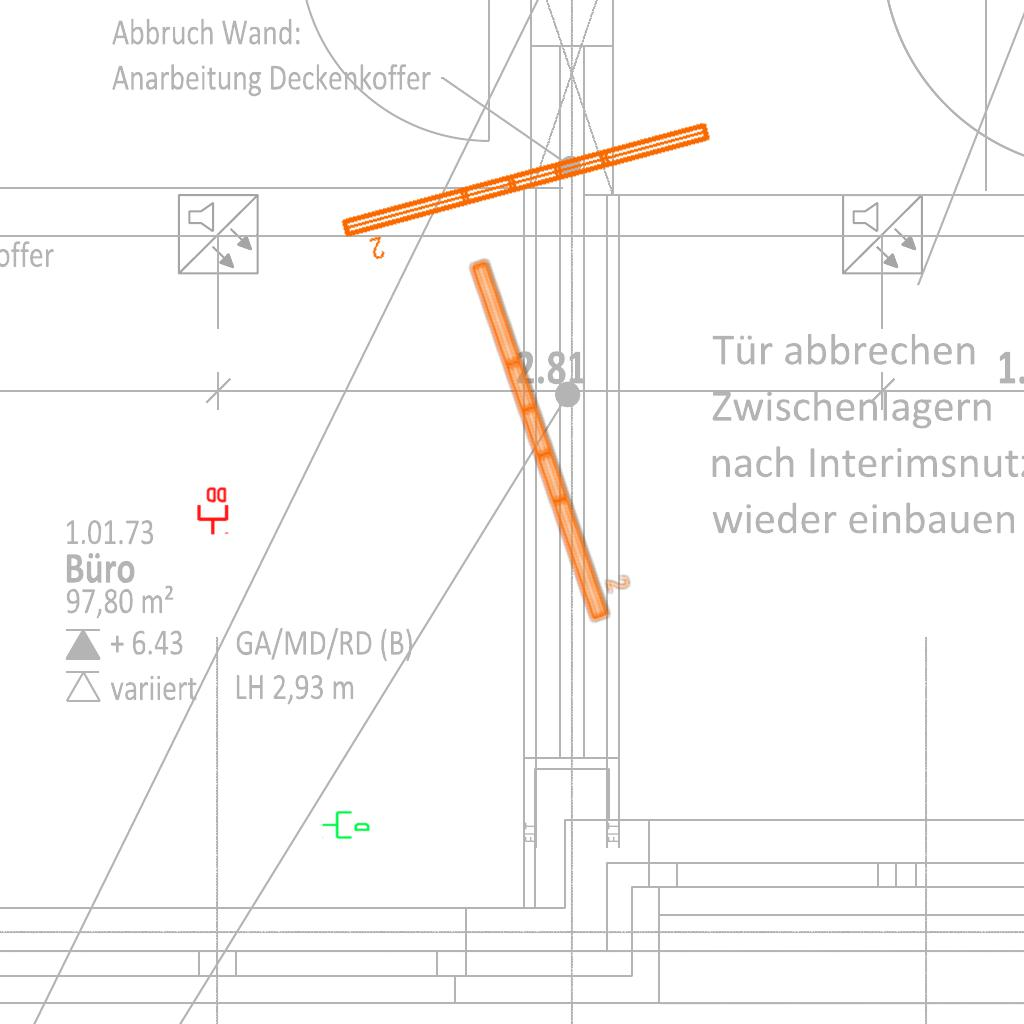Ambulanz_Pendelleuchte_LED: (462, 243, 641, 629), (335, 114, 724, 270)
Datenanschluss_einfach: (321, 807, 371, 841)
Datenanschluss_zweifach: (195, 485, 229, 536)
